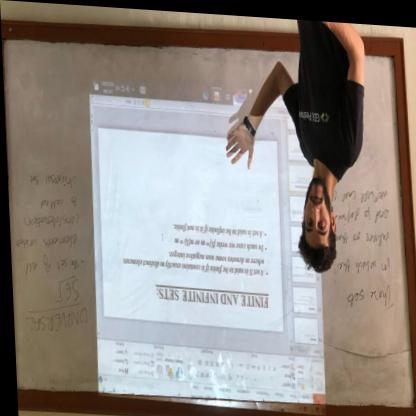Handwritten text: (19, 305, 87, 339), (338, 273, 391, 312), (11, 228, 78, 254), (19, 251, 80, 279), (332, 247, 392, 275), (329, 172, 388, 199), (331, 198, 389, 224), (25, 161, 77, 190), (17, 208, 81, 231), (333, 225, 389, 247), (32, 191, 75, 213), (52, 275, 79, 306)
Lecturer: (272, 21, 373, 276)
